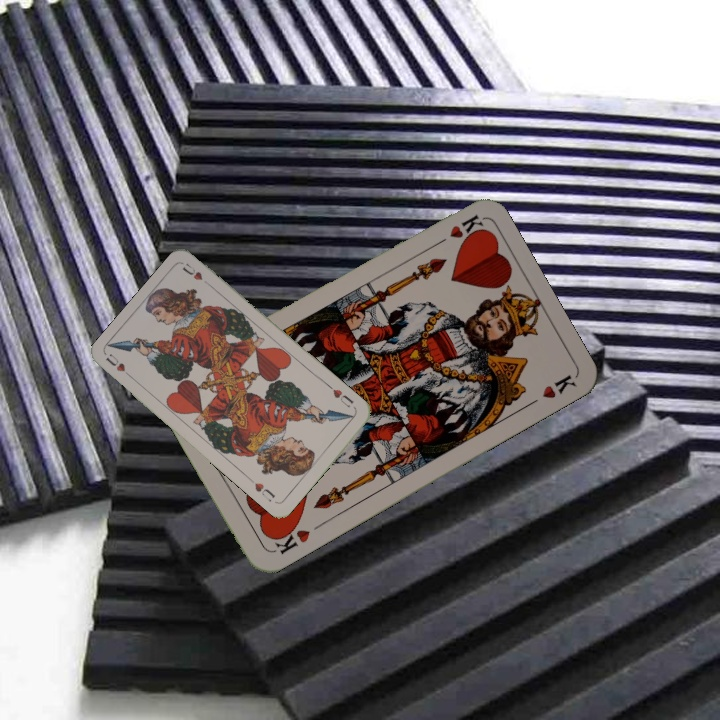HK: (429, 210, 485, 250), (268, 520, 313, 557)
HU: (102, 350, 136, 382), (325, 381, 357, 410)
